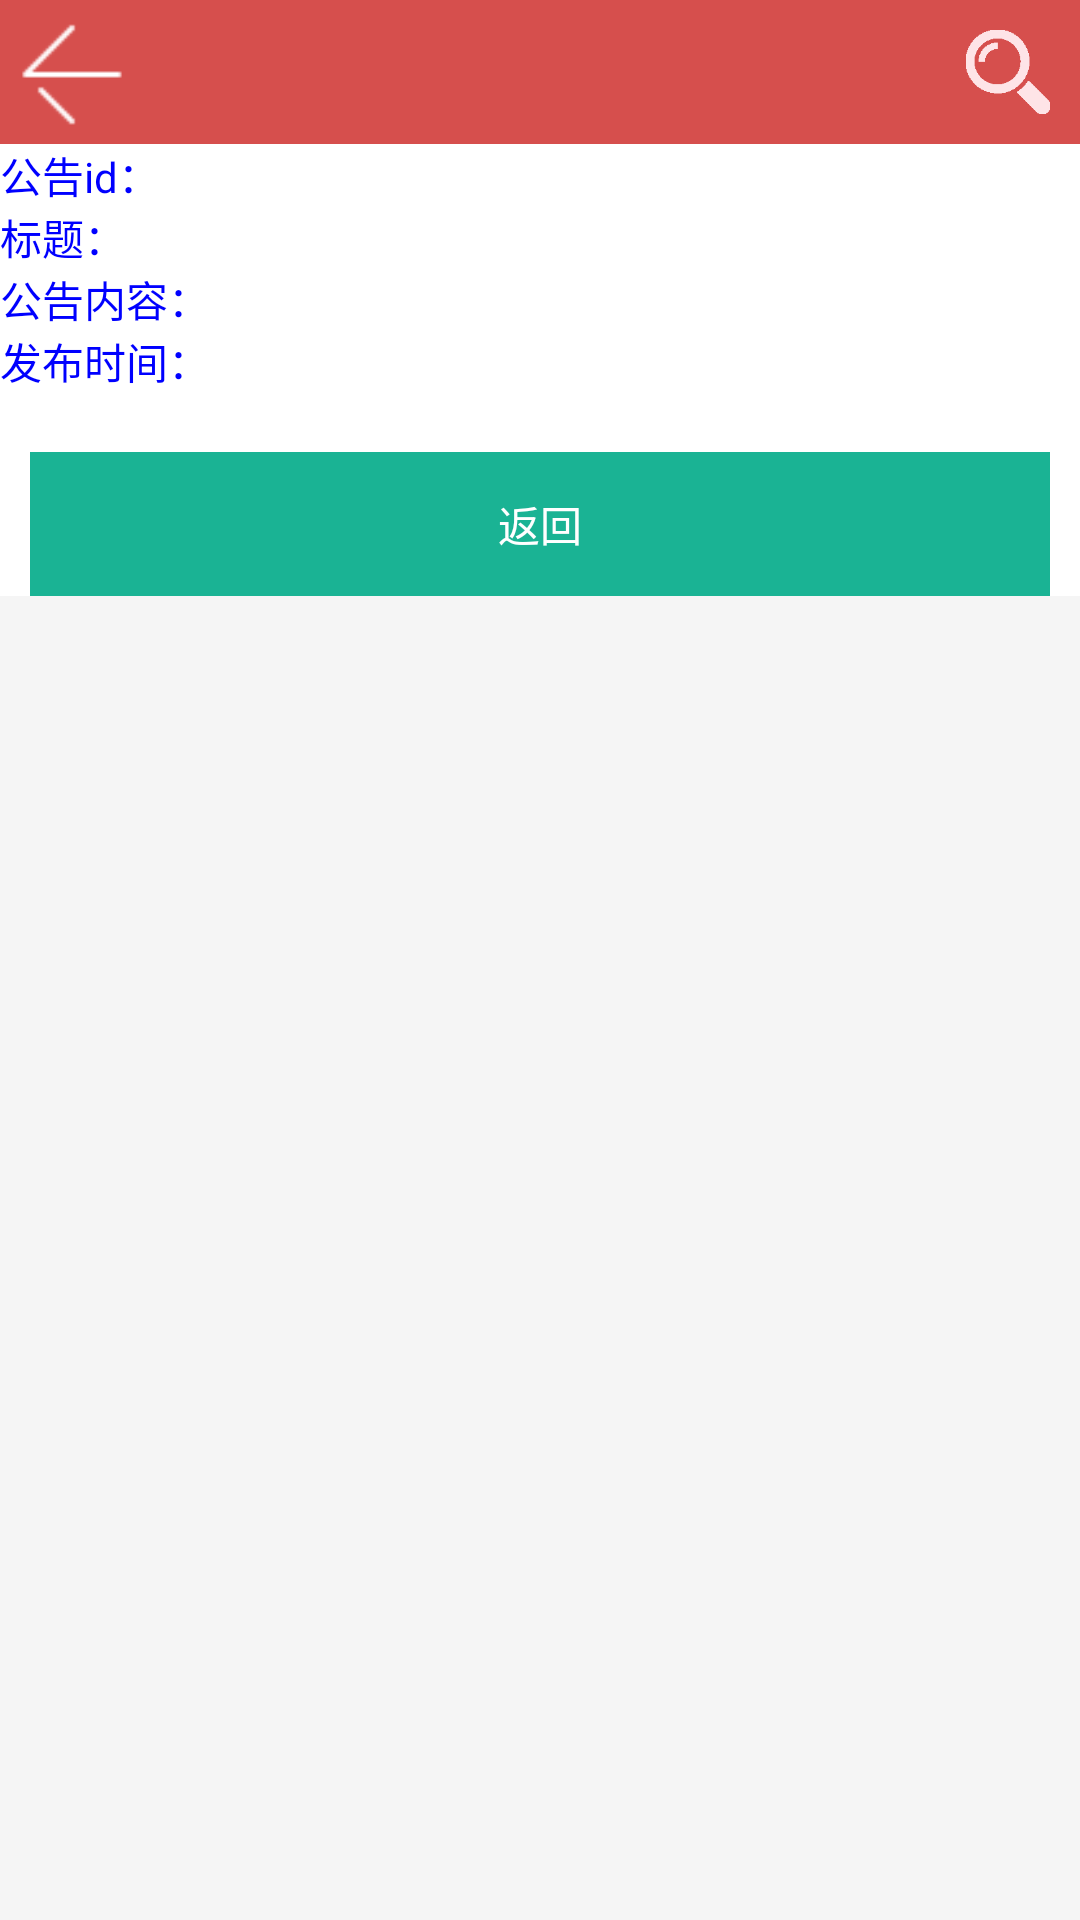

Point at icon controls on the screen. Image size 1080px x 1920px, points as [x,y].
left: [72,75]
search: [1008,72]
